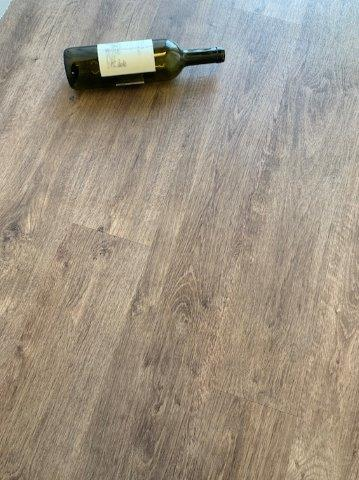botolkaca: (64, 37, 223, 88)
